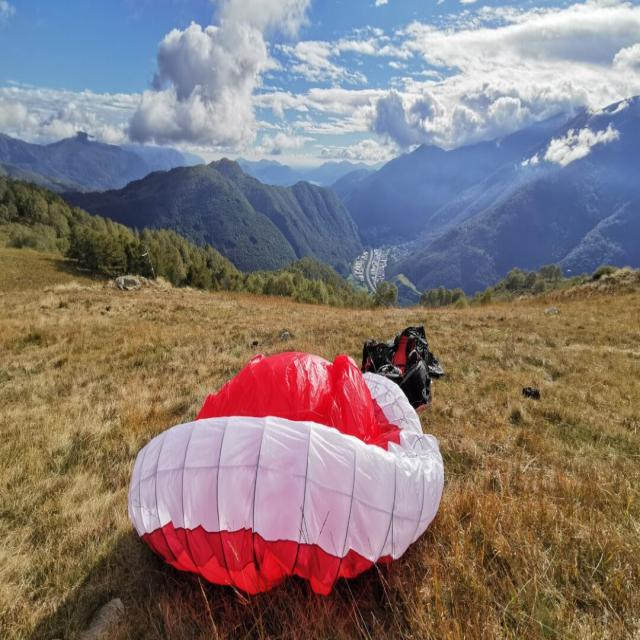paraglider: (128, 351, 444, 596)
